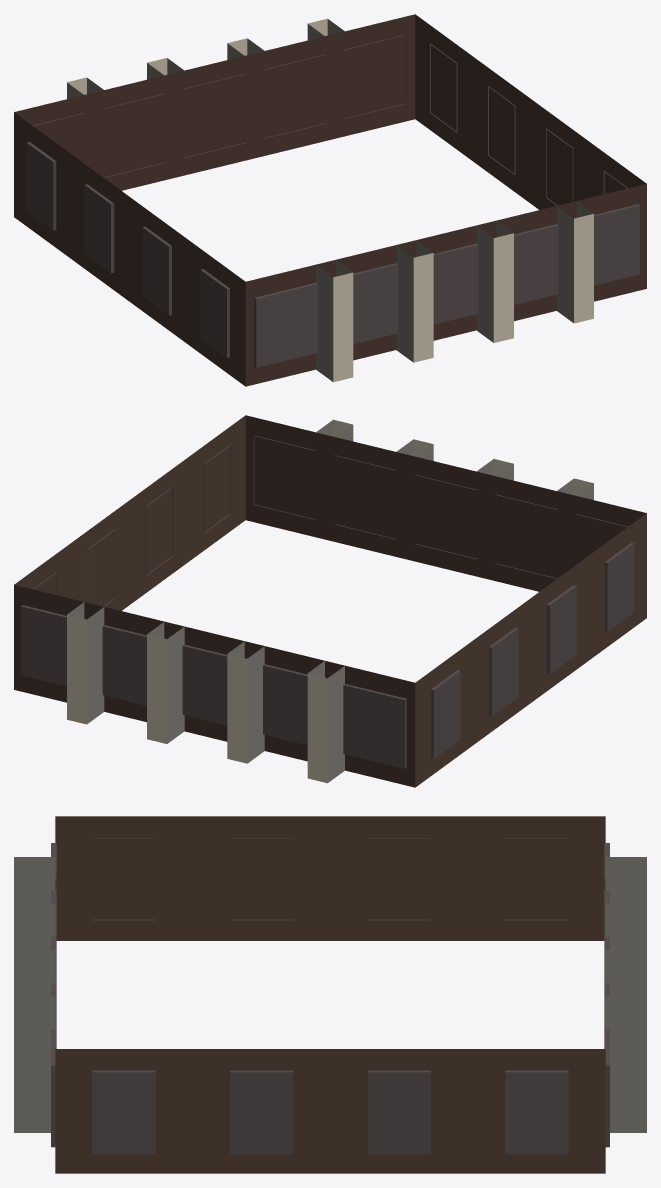
Rendered from TB_CITY_Skysc_D_BodyB_Brown.FBX.
The picture shows the model from 3 angles, top to bottom: view 1: azimuth 30°, elevation 25°; view 2: azimuth 150°, elevation 25°; view 3: azimuth 270°, elevation 25°; orthographic projection. The views are drawn at different scales.
Parts seen in each view (by area): view 1: TB_CITY_Skysc_D_BodyB_Brown; view 2: TB_CITY_Skysc_D_BodyB_Brown; view 3: TB_CITY_Skysc_D_BodyB_Brown.
Part boxes in pixels (left/top/right/bottom): TB_CITY_Skysc_D_BodyB_Brown: left=14, top=14, right=646, bottom=386; TB_CITY_Skysc_D_BodyB_Brown: left=14, top=415, right=646, bottom=787; TB_CITY_Skysc_D_BodyB_Brown: left=14, top=816, right=646, bottom=1173.
Bounding box in the file's own units: 20.31 × 5 × 23.
